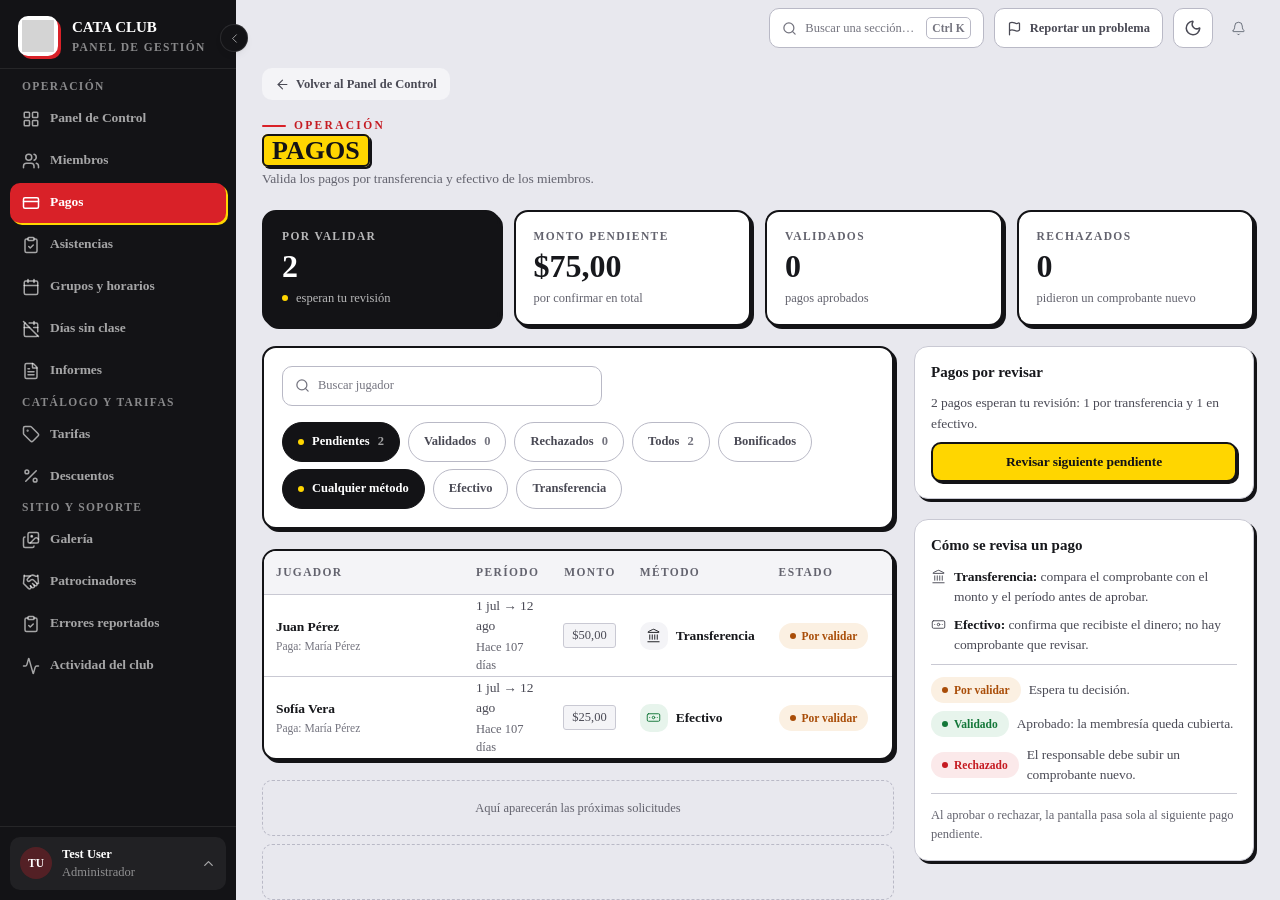
Test: PaymentsPage — age and method filter (ADMA-25) › filters the queue by method and brings every row back with «Cualquier método»
This screenshot has width=1280, height=900.
Expected: the number of rows is 3, left=264, top=551, right=892, bottom=595; left=264, top=595, right=892, bottom=677; left=264, top=677, right=892, bottom=758
Click the button "Efectivo": (471, 489) left=433, top=469, right=508, bottom=509
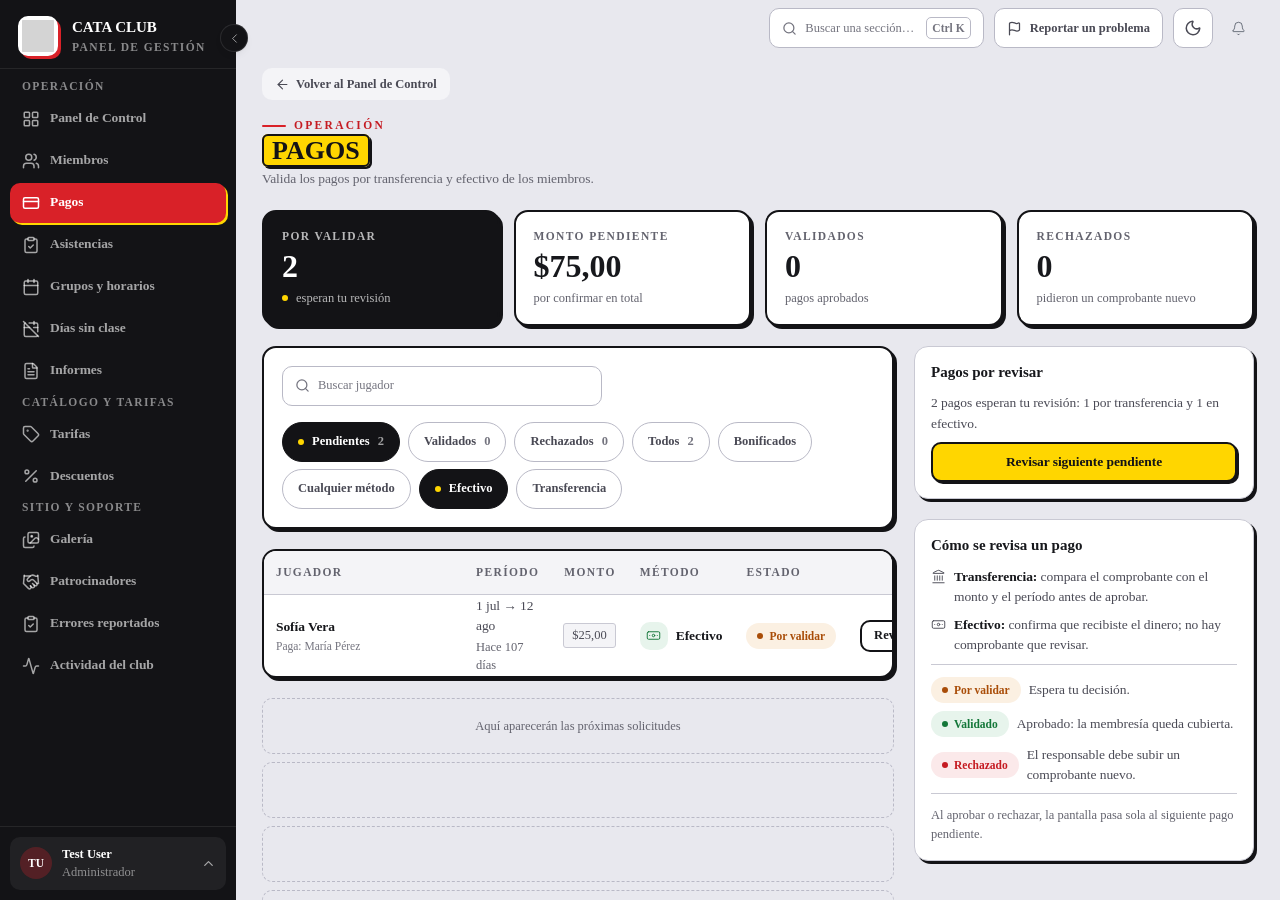
Expected: the text "Sofía Vera" is shown, left=276, top=619, right=335, bottom=634
Expected: the number of rows is 2, left=264, top=551, right=892, bottom=595; left=264, top=595, right=892, bottom=676
Expected: the text "Juan Pérez" is gone
Click the button "Transferencia": (569, 489) left=516, top=469, right=622, bottom=509
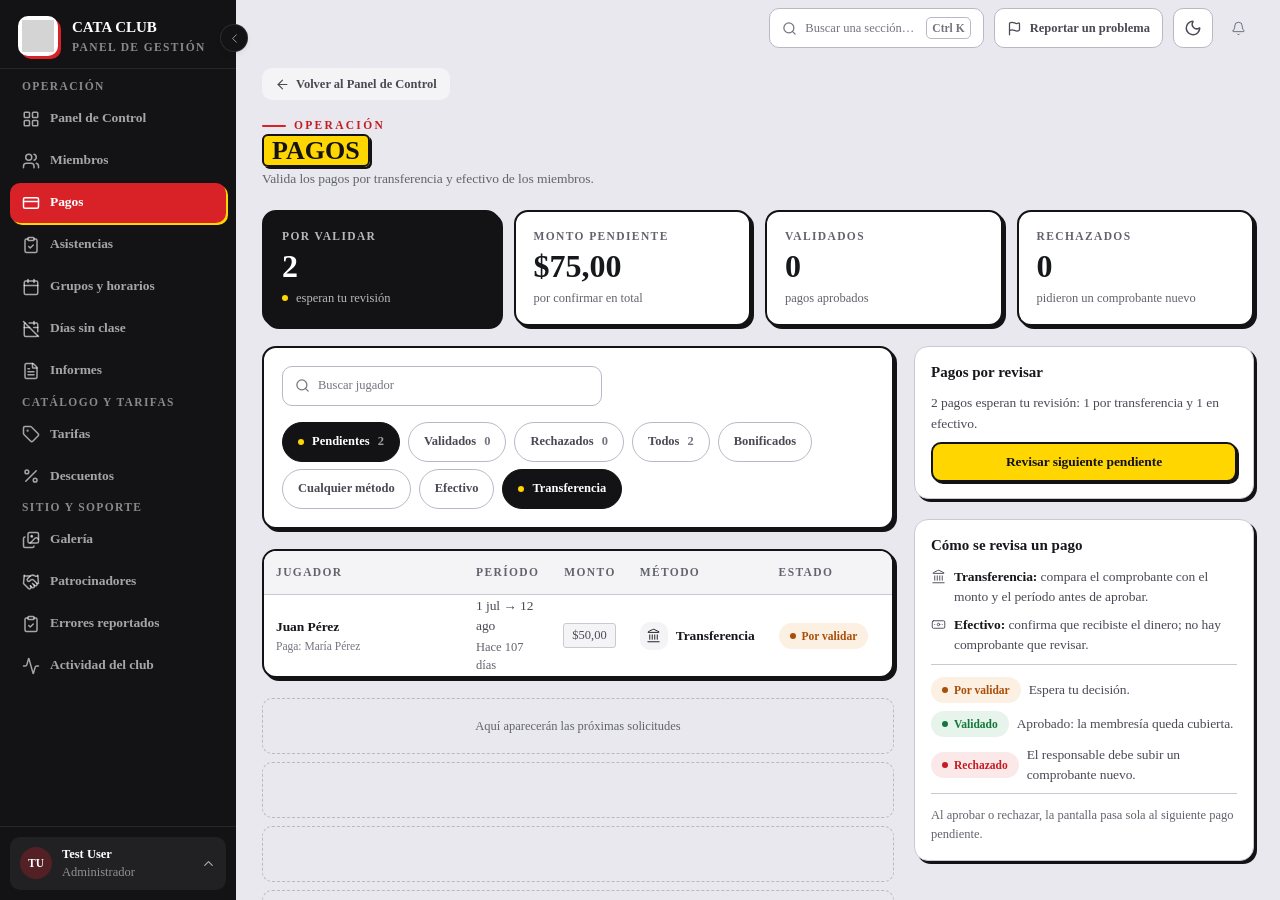
Expected: the text "Sofía Vera" is gone
Expected: the text "Juan Pérez" is shown, left=276, top=619, right=339, bottom=634
Click the button "Cualquier método": (346, 489) left=282, top=469, right=411, bottom=509
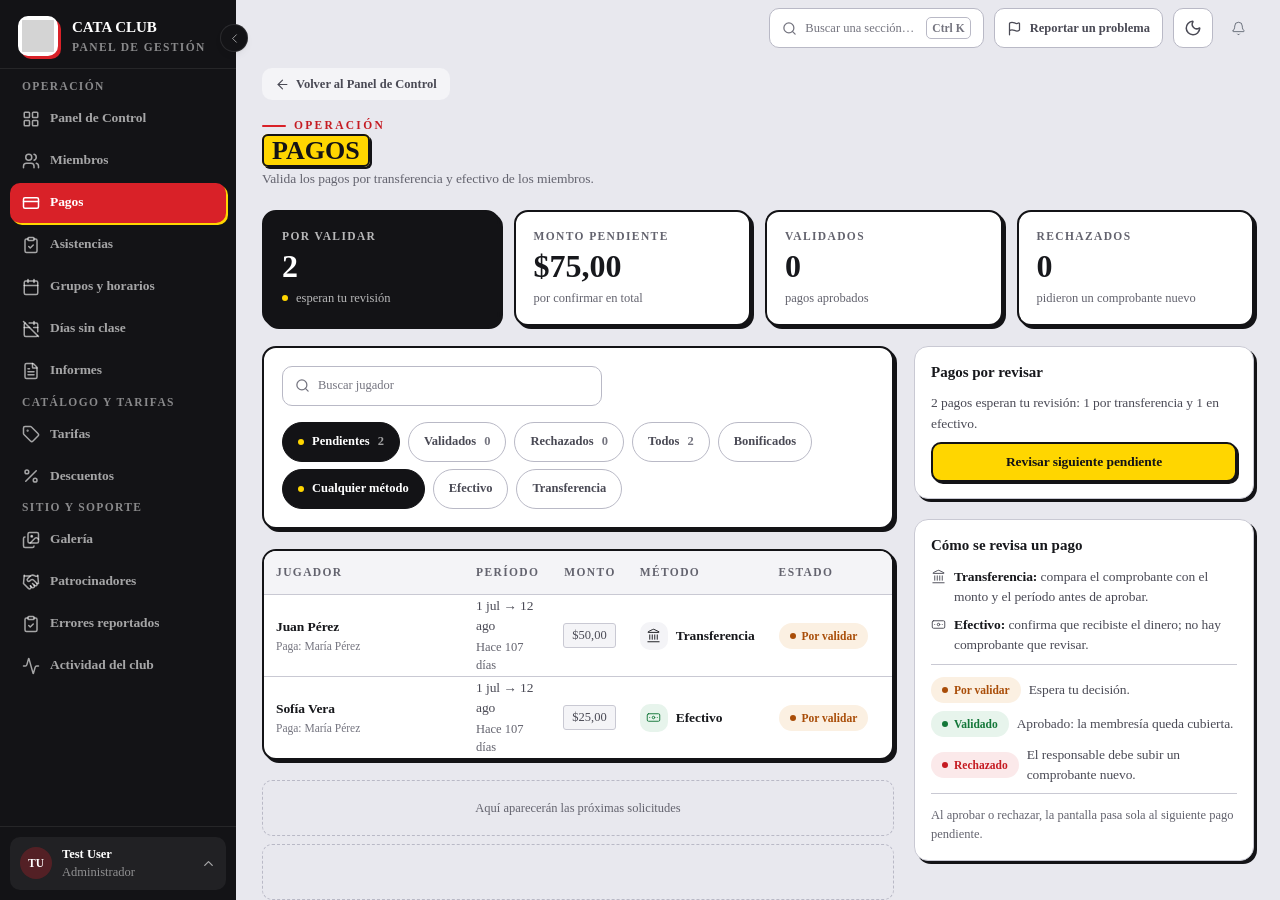
Expected: the number of rows is 3, left=264, top=551, right=892, bottom=595; left=264, top=595, right=892, bottom=677; left=264, top=677, right=892, bottom=758
